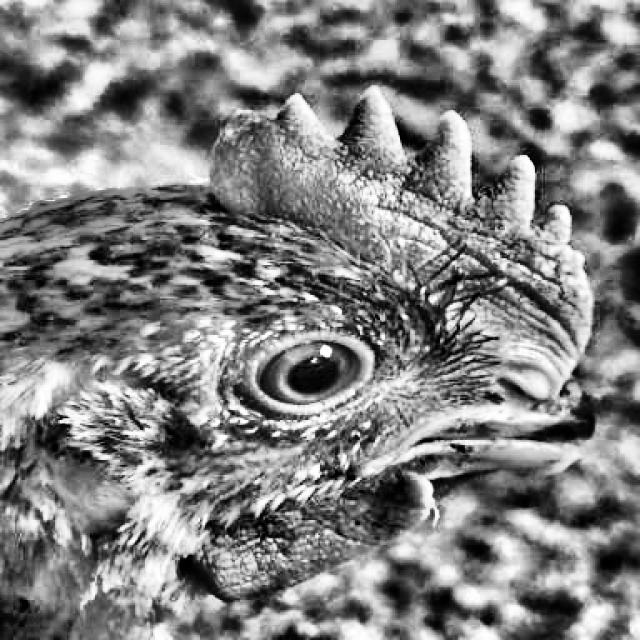Healthy: (213, 320, 420, 423)
